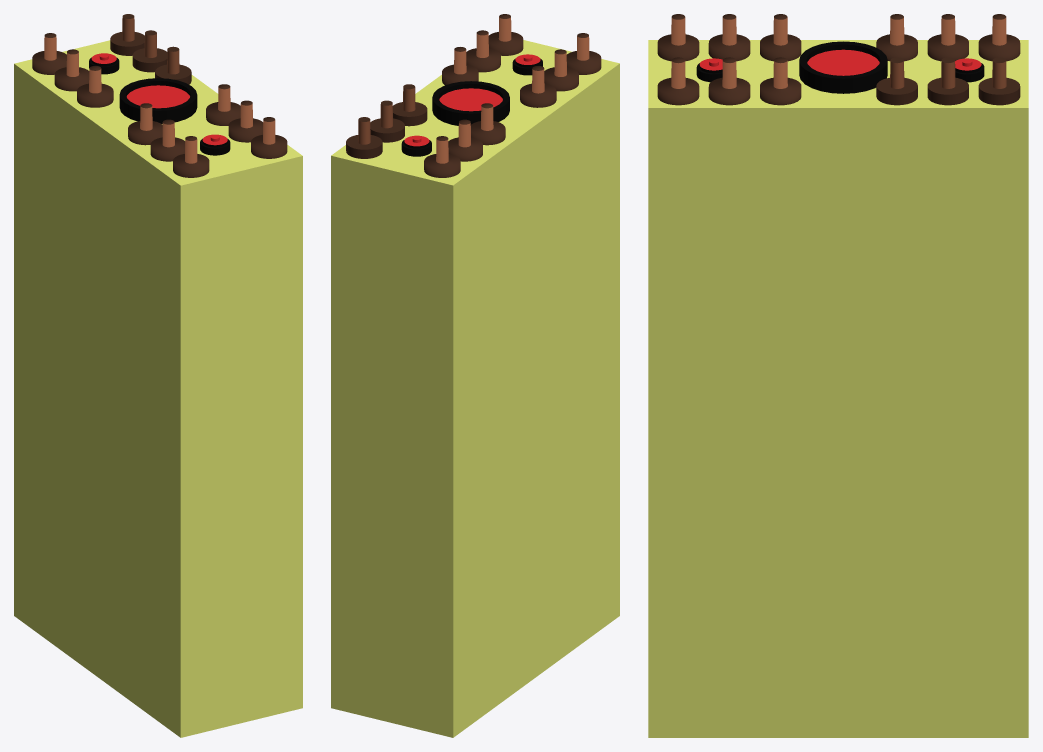
Rendered from SubmarineBatteryCell.glb.
3 renders of one model, left to right at view 1: azimuth 30°, elevation 25°; view 2: azimuth 150°, elevation 25°; view 3: azimuth 270°, elevation 25°, orthographic. The views are drawn at different scales.
Parts seen in each view (by area): view 1: Cube, Cylinder.005, Cylinder.003, Cylinder.002, Cylinder, Cylinder.001, Cylinder.004, Cylinder.006; view 2: Cube, Cylinder.001, Cylinder.002, Cylinder.005, Cylinder.003, Cylinder, Cylinder.006, Cylinder.004; view 3: Cube, Cylinder.003, Cylinder.001, Cylinder, Cylinder.005, Cylinder.002, Cylinder.006.
Part boxes in pixels (x1,y1,x2,y2): Cube: (14, 40, 302, 737); Cylinder.005: (128, 103, 209, 177); Cylinder.003: (206, 84, 287, 158); Cylinder.002: (32, 33, 113, 107); Cylinder: (119, 78, 197, 123); Cylinder.001: (110, 14, 191, 84); Cylinder.004: (200, 134, 230, 155); Cylinder.006: (89, 53, 119, 74); Cube: (331, 40, 619, 737); Cylinder.001: (346, 84, 427, 158); Cylinder.002: (424, 103, 505, 177); Cylinder.005: (520, 33, 601, 107); Cylinder.003: (442, 14, 523, 85); Cylinder: (432, 81, 509, 125); Cylinder.006: (401, 135, 431, 156); Cylinder.004: (512, 54, 542, 75); Cube: (648, 40, 1028, 737); Cylinder.003: (657, 57, 801, 105); Cylinder.001: (876, 57, 1020, 105); Cylinder: (799, 41, 887, 93); Cylinder.005: (657, 14, 801, 61); Cylinder.002: (876, 14, 1020, 61); Cylinder.006: (955, 58, 984, 82).
Size of the model in its own units: 0.5639 by 2.58 by 1.33.
